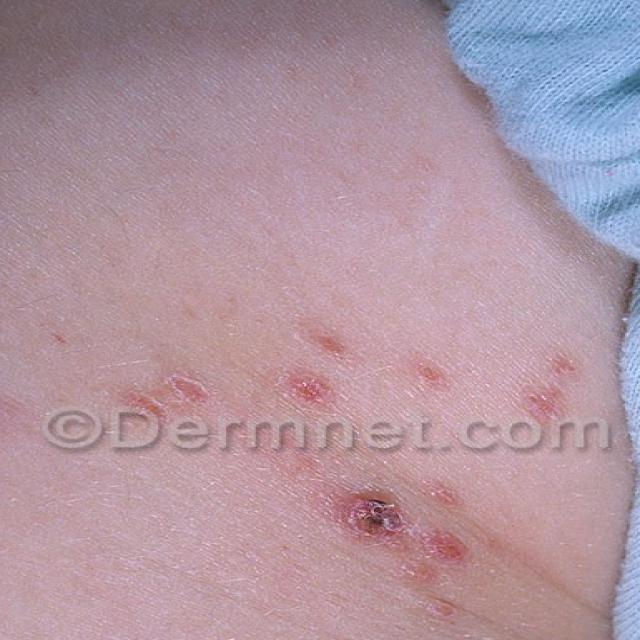Viral Infections: (73, 291, 609, 415), (326, 467, 492, 590)
